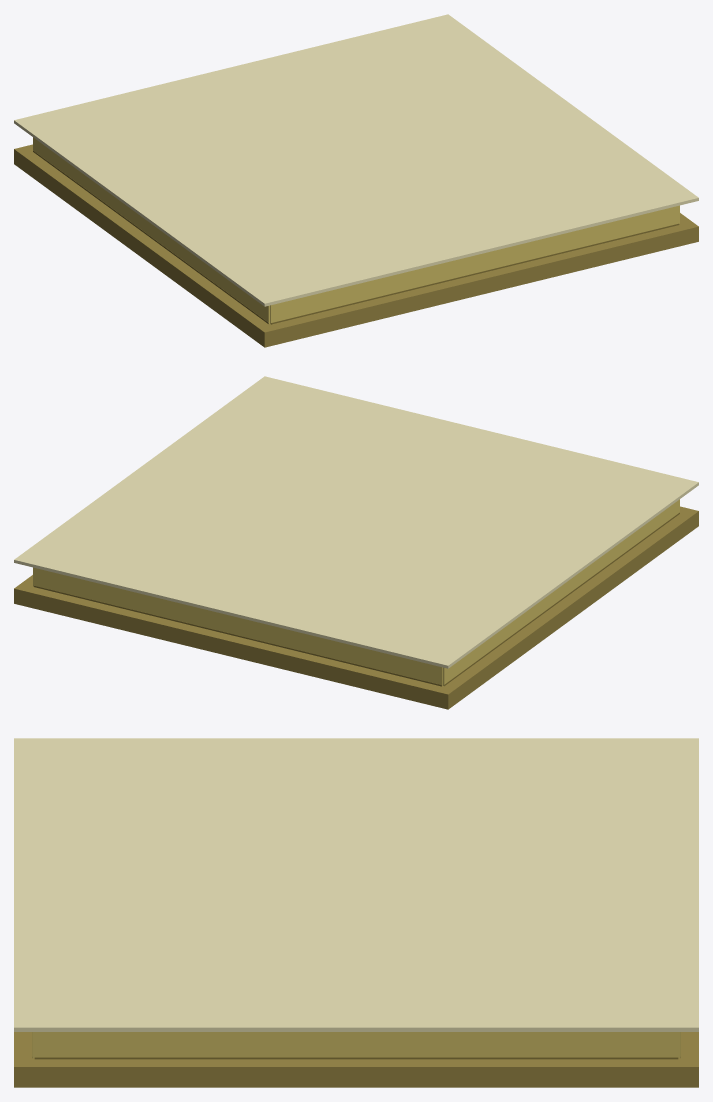
The model's file is backrooms.glb.
3 views of the same model, one above another, from view 1: azimuth 30°, elevation 25°; view 2: azimuth 150°, elevation 25°; view 3: azimuth 270°, elevation 25° (orthographic). The views are drawn at different scales.
Visible parts, largest first — view 1: backrooms_Ceiling_ceil, backrooms_Floor_carpetA, backrooms_Walls_wall, backrooms_Baseboards_base; view 2: backrooms_Ceiling_ceil, backrooms_Floor_carpetA, backrooms_Walls_wall, backrooms_Baseboards_base; view 3: backrooms_Ceiling_ceil, backrooms_Floor_carpetA, backrooms_Walls_wall, backrooms_Baseboards_base.
Boxes of the visible parts, bbox=[...] form: backrooms_Ceiling_ceil: bbox=[14, 14, 698, 306]; backrooms_Floor_carpetA: bbox=[14, 144, 698, 347]; backrooms_Walls_wall: bbox=[33, 137, 679, 323]; backrooms_Baseboards_base: bbox=[33, 150, 679, 324]; backrooms_Ceiling_ceil: bbox=[14, 376, 698, 668]; backrooms_Floor_carpetA: bbox=[14, 506, 698, 709]; backrooms_Walls_wall: bbox=[33, 499, 679, 685]; backrooms_Baseboards_base: bbox=[33, 512, 679, 686]; backrooms_Ceiling_ceil: bbox=[14, 738, 698, 1031]; backrooms_Floor_carpetA: bbox=[14, 1032, 698, 1087]; backrooms_Walls_wall: bbox=[32, 1032, 680, 1058]; backrooms_Baseboards_base: bbox=[32, 1032, 680, 1059].
Size of the model in its own units: 60 by 5.8 by 60.
